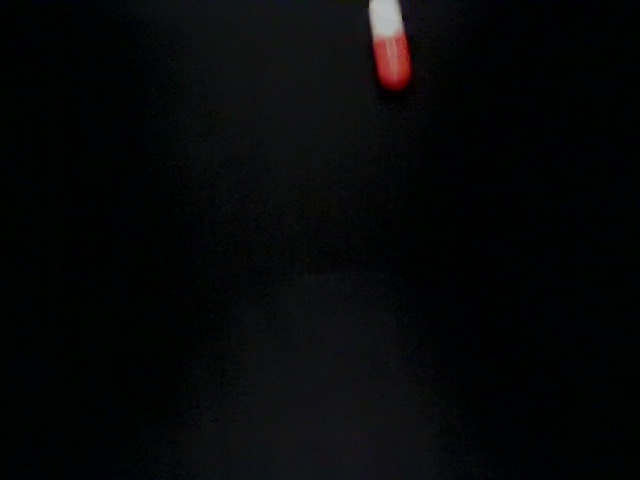YHLJ: (285, 237, 365, 312)
